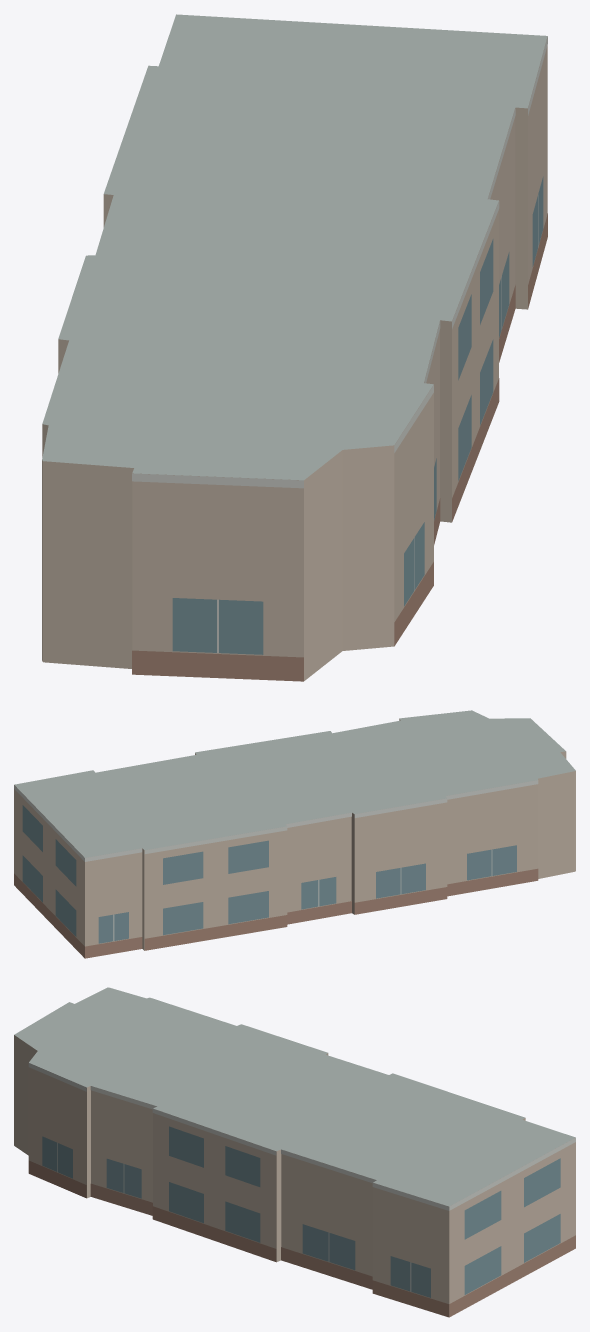
The model's file is survey-upis-32955308.glb.
3 renders of one model, top to bottom at view 1: azimuth 30°, elevation 25°; view 2: azimuth 150°, elevation 25°; view 3: azimuth 270°, elevation 25°, orthographic. The views are drawn at different scales.
Parts seen in each view (by area): view 1: survey-upis-32955308.tmp; view 2: survey-upis-32955308.tmp; view 3: survey-upis-32955308.tmp.
Boxes of the visible parts, x1,y1,x2,y2 form: survey-upis-32955308.tmp: (42, 14, 547, 681); survey-upis-32955308.tmp: (14, 710, 575, 958); survey-upis-32955308.tmp: (14, 987, 575, 1317).
Bounding box in the file's own units: 25.85 × 6.1 × 28.
